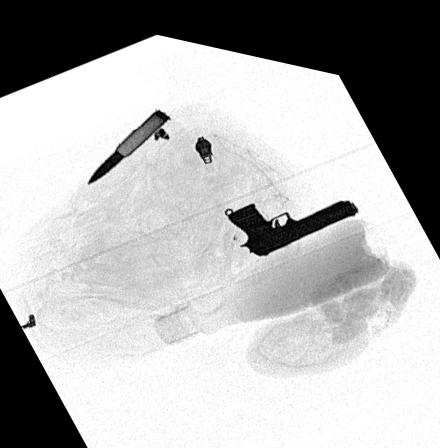Bullet: (85, 102, 172, 180)
Gun: (225, 182, 361, 244)
